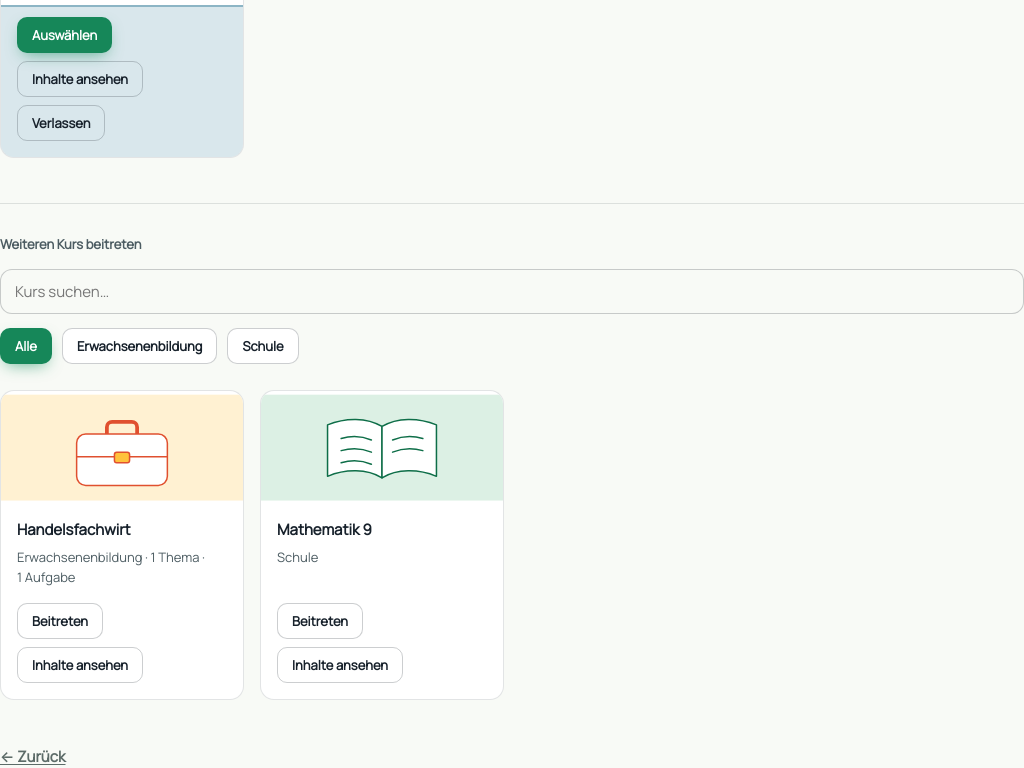
Scenario: CourseSelection (F-100/F-101/F-102) › bricht den Wechsel mit „Abbrechen“ ab, ohne zu beizutreten
This screenshot has width=1024, height=768.
(page scrolled)
Click the button "Beitreten" below "Erwachsenenbildung · 1 Thema · 1 Aufgabe": (60, 621) [17, 603, 103, 639]
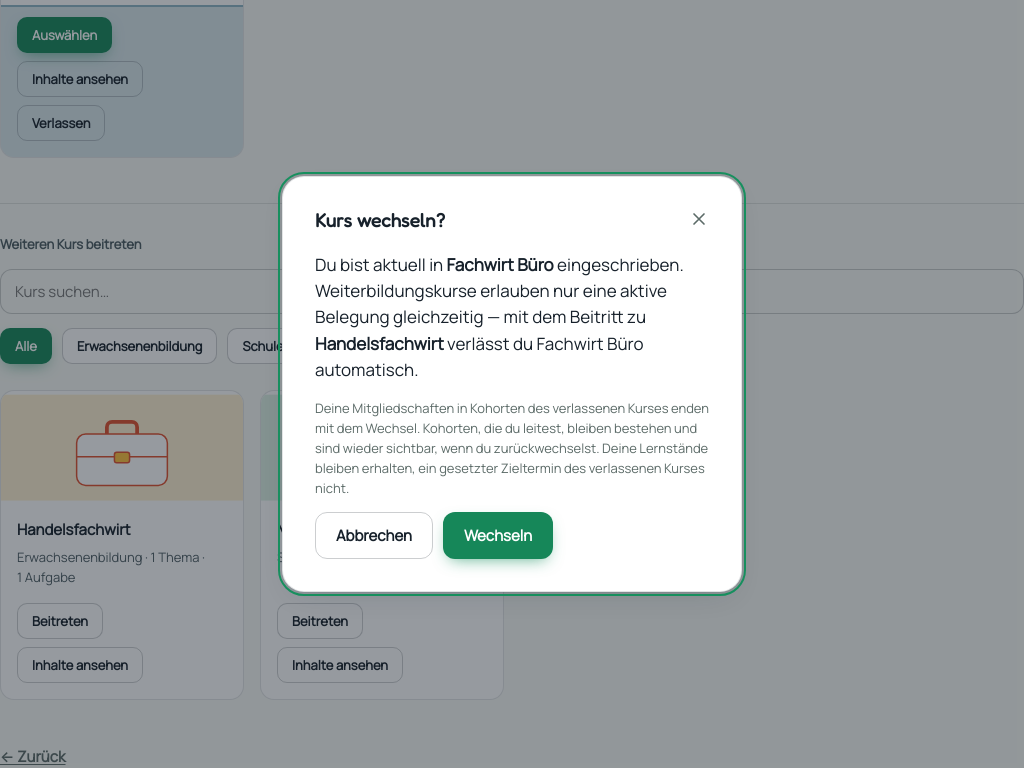
Click the button "Abbrechen": (374, 536) [315, 512, 433, 559]
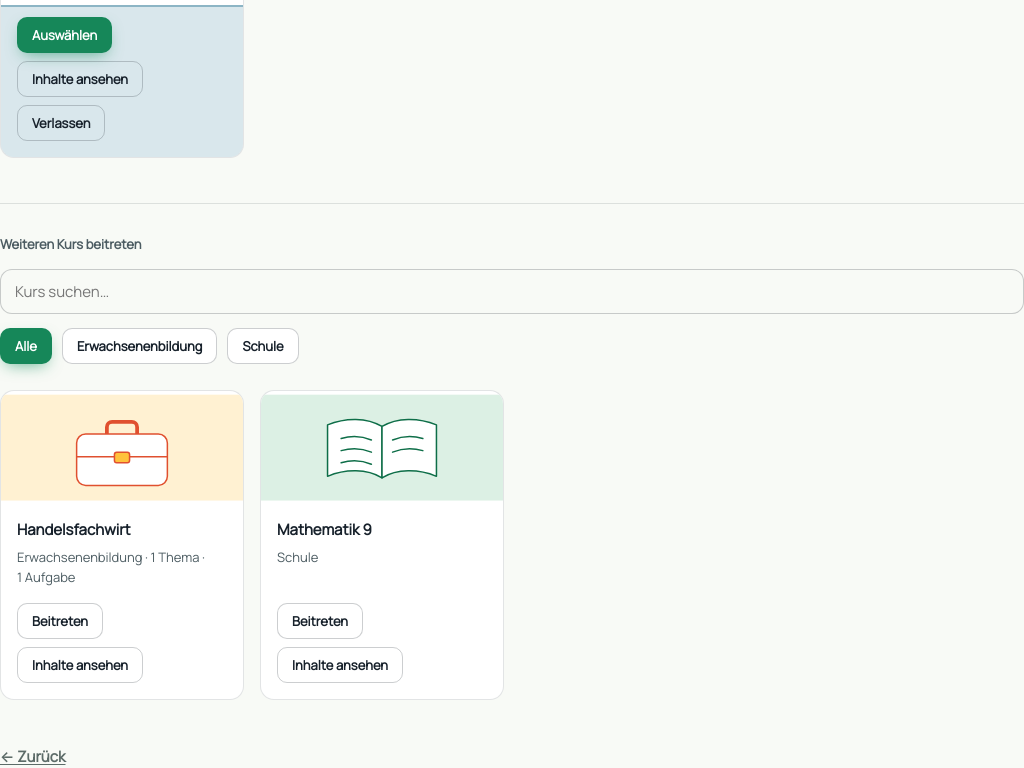
Expected: the dialog is gone
